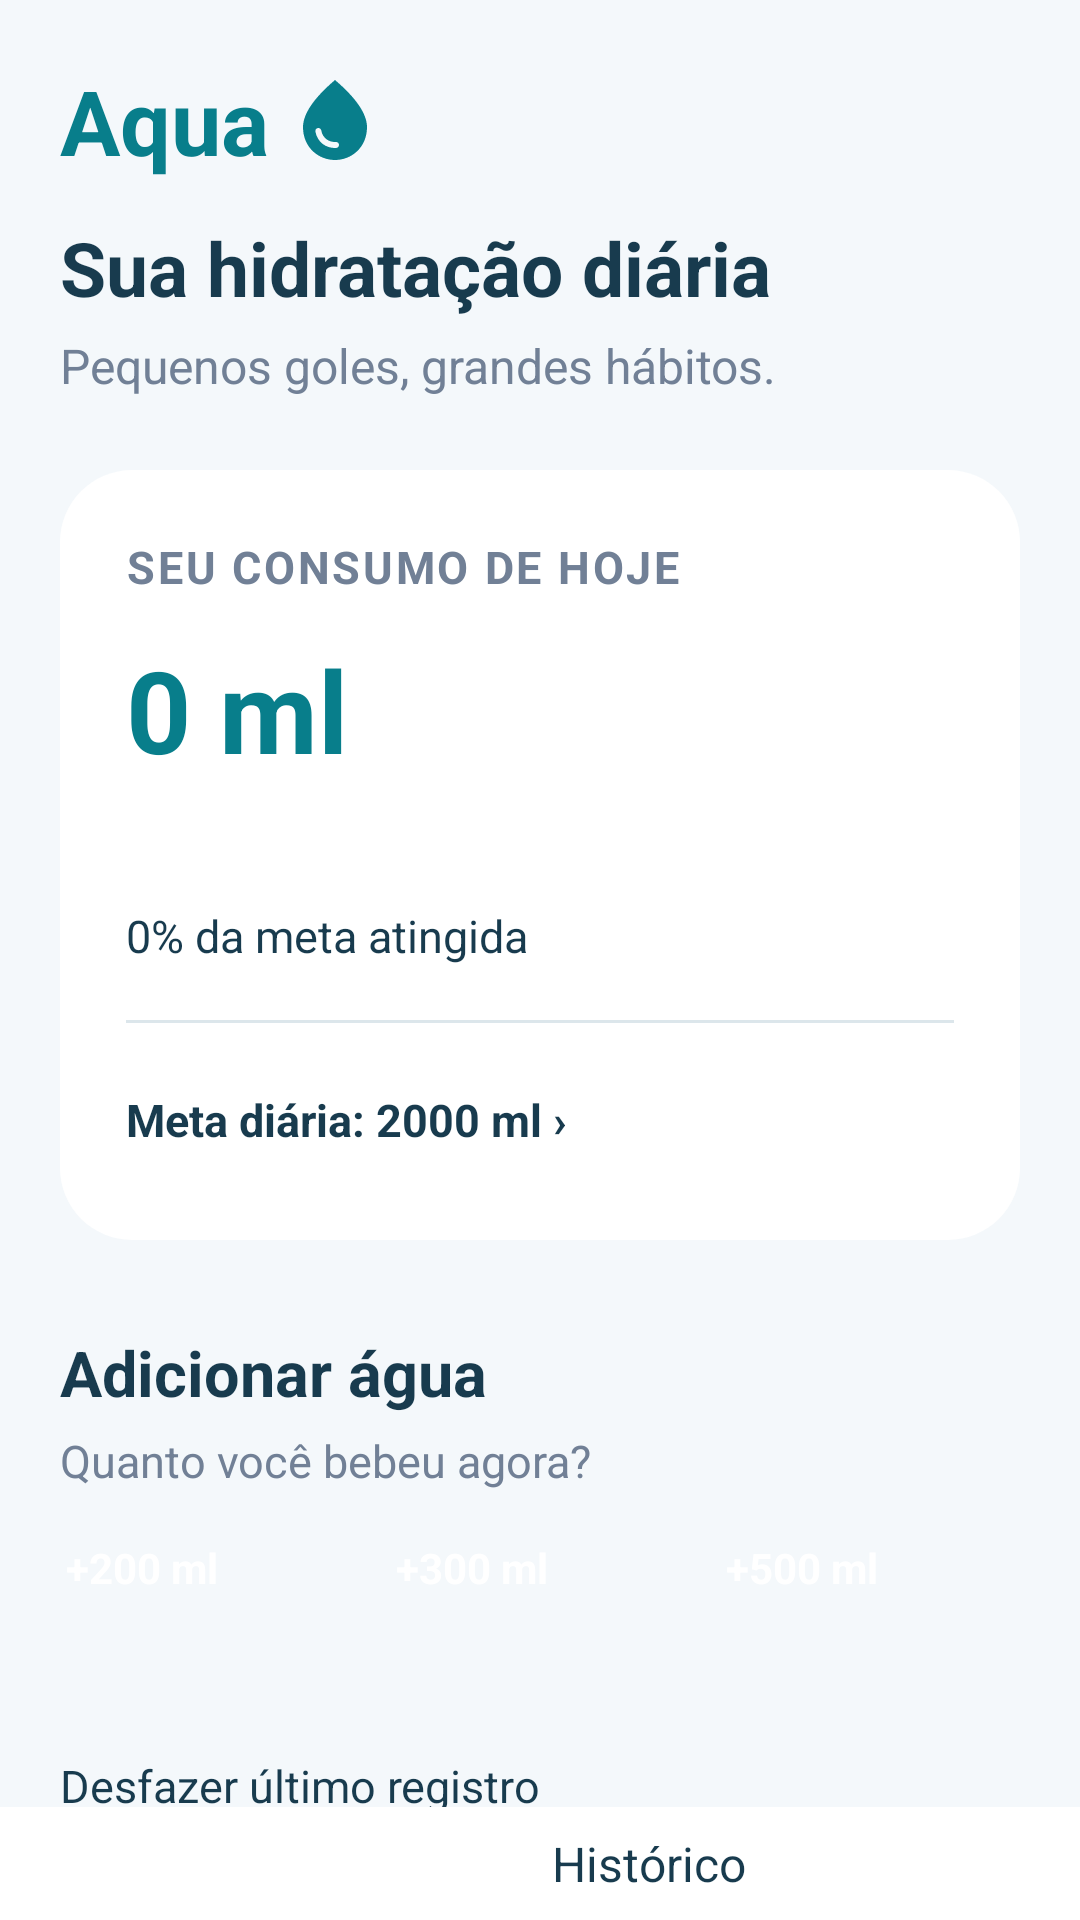

Screen size 1080px x 1920px. Icon name, then its center in pixels as (x=x, y=y):
Ícone de hidratação: (x=335, y=120)
